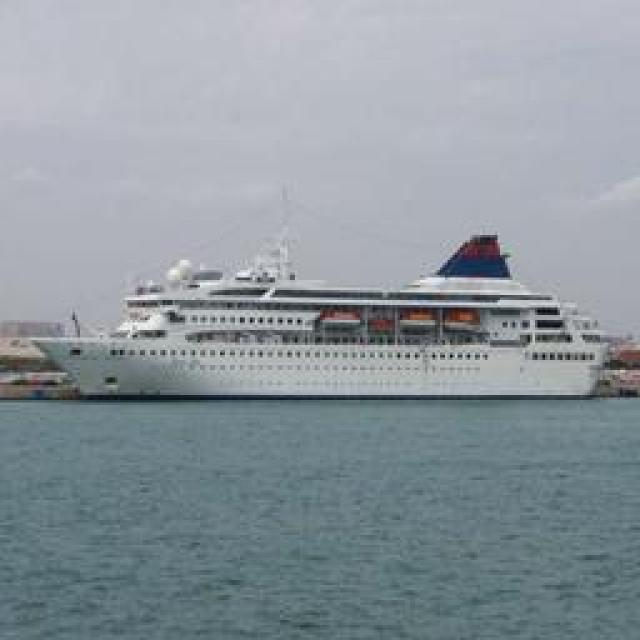CIV_Ship: (41, 226, 611, 402)
